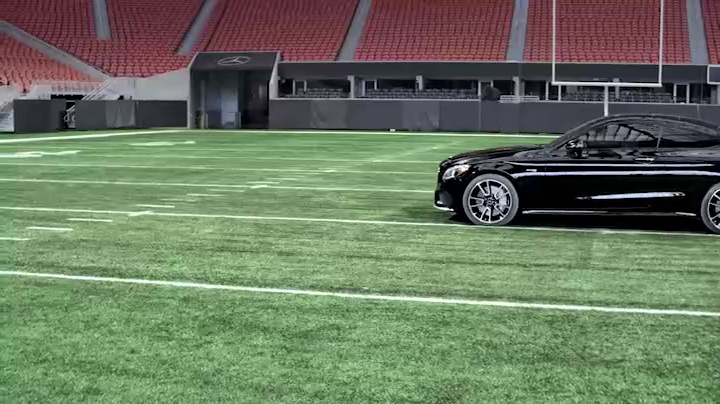amg: (429, 113, 720, 234)
